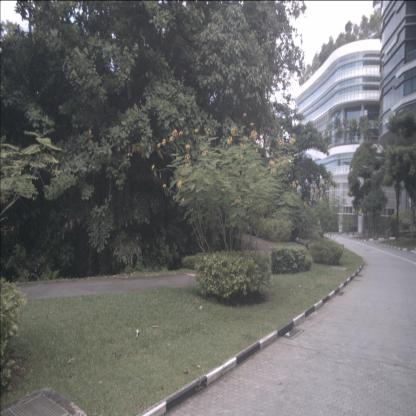human-pedestrian-adult: (347, 225, 349, 235)
